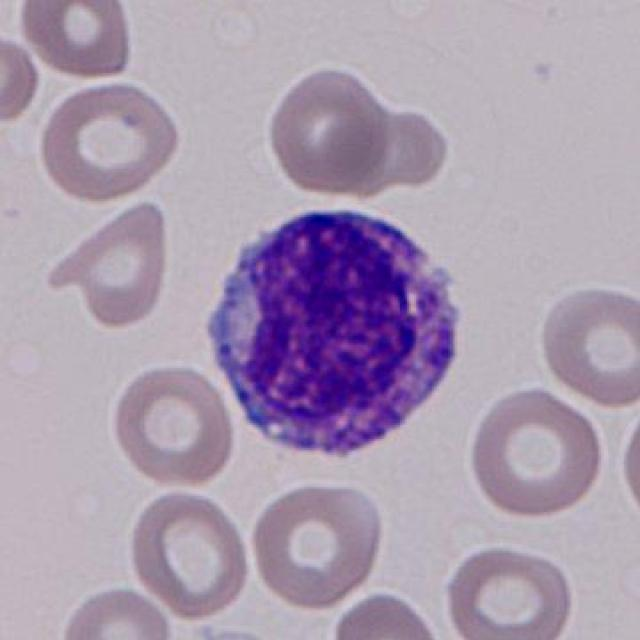RBC: (462, 386, 610, 519), (34, 78, 185, 204), (247, 478, 386, 614), (261, 61, 395, 199), (124, 486, 254, 622), (105, 361, 240, 491), (46, 197, 174, 329), (439, 538, 577, 640), (531, 281, 640, 409), (334, 101, 454, 201), (13, 0, 135, 82), (55, 583, 174, 640), (327, 590, 443, 640), (0, 29, 43, 124), (617, 400, 640, 533)
